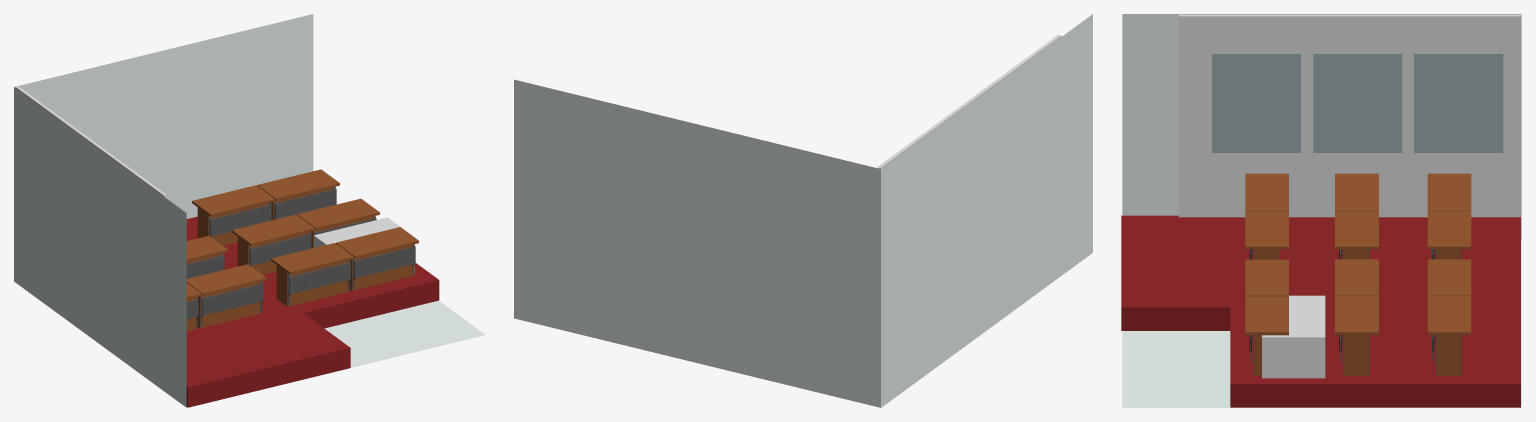
File: lab Mac.glb
3 renders of one model, left to right at view 1: azimuth 30°, elevation 25°; view 2: azimuth 150°, elevation 25°; view 3: azimuth 270°, elevation 25°, orthographic. The views are drawn at different scales.
Visible parts, largest first — view 1: Plane, Cube, Cube.008, Cube.007, Cube.005, Cube.003, Cube.002, Cube.004, Cube.001, Cube.017; view 2: Plane, Cube.017; view 3: Cube, Cube.017, Plane, Cube.019, Cube.020, Cube.018, Cube.008, Cube.007, Cube.001, Cube.006, Cube.005, Cube.004 (+2 smaller).
Boxes of the visible parts, bbox=[...] form: Plane: bbox=[14, 14, 485, 407]; Cube: bbox=[186, 216, 439, 407]; Cube.008: bbox=[192, 169, 339, 245]; Cube.007: bbox=[232, 198, 379, 274]; Cube.005: bbox=[186, 264, 266, 331]; Cube.003: bbox=[271, 243, 353, 306]; Cube.002: bbox=[336, 227, 418, 290]; Cube.004: bbox=[186, 235, 227, 278]; Cube.001: bbox=[313, 217, 414, 272]; Cube.017: bbox=[15, 86, 166, 197]; Plane: bbox=[514, 14, 1092, 407]; Cube.017: bbox=[876, 34, 1061, 168]; Cube: bbox=[1121, 215, 1520, 407]; Cube.017: bbox=[1178, 14, 1520, 217]; Plane: bbox=[1122, 14, 1521, 407]; Cube.019: bbox=[1313, 52, 1402, 152]; Cube.020: bbox=[1414, 52, 1503, 152]; Cube.018: bbox=[1212, 52, 1300, 152]; Cube.008: bbox=[1427, 259, 1471, 375]; Cube.007: bbox=[1335, 259, 1378, 375]; Cube.001: bbox=[1262, 295, 1325, 378]; Cube.006: bbox=[1427, 173, 1471, 259]; Cube.005: bbox=[1245, 173, 1288, 259]; Cube.004: bbox=[1335, 173, 1378, 259].
Bounding box in the file's own units: 3.96 × 2.46 × 3.97.
